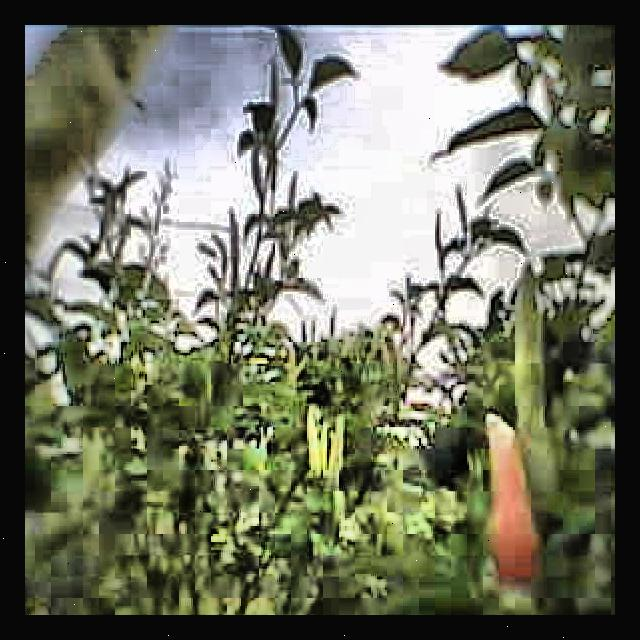Cabai: (488, 412, 541, 569)
